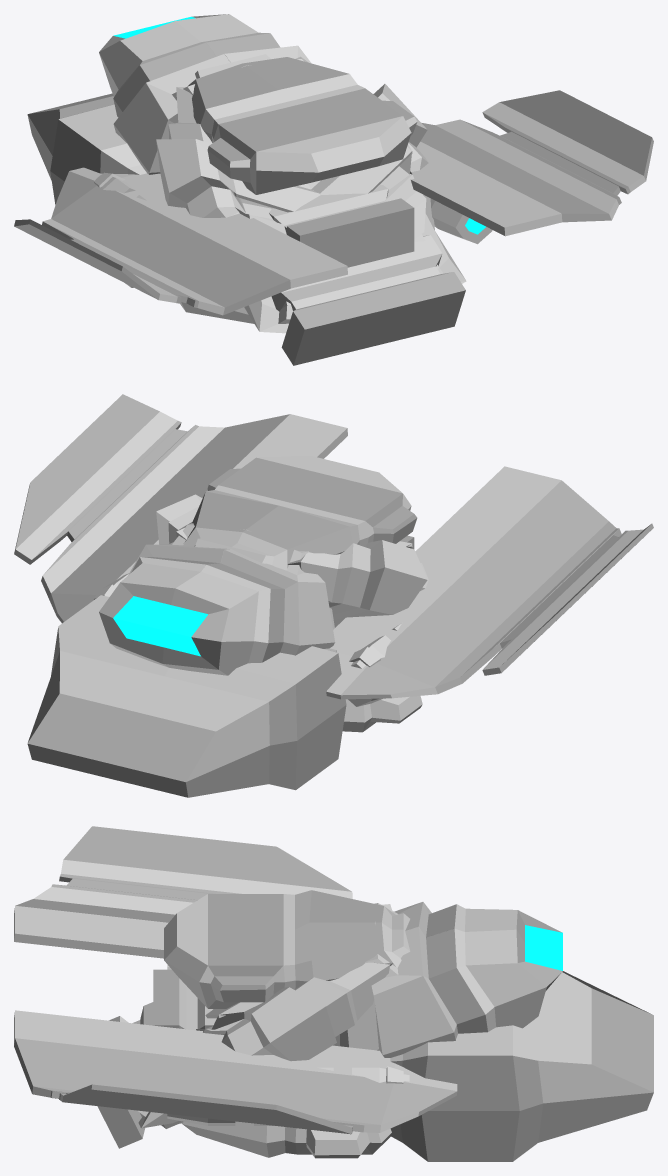
File: spaceship 5 white.fbx
3 renders of one model, top to bottom at view 1: azimuth 30°, elevation 25°; view 2: azimuth 150°, elevation 25°; view 3: azimuth 270°, elevation 25°, orthographic.
Parts seen in each view (by area): view 1: Cube.009; view 2: Cube.009; view 3: Cube.009.
Part boxes in pixels (bbox=[...]): Cube.009: bbox=[14, 14, 653, 365]; Cube.009: bbox=[14, 394, 653, 797]; Cube.009: bbox=[14, 826, 653, 1161].
Size of the model in its own units: 897 by 301 by 934.
